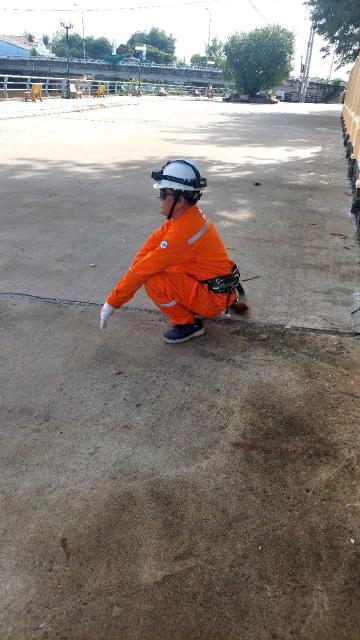gloves: (90, 293, 125, 332)
harness: (198, 266, 251, 299)
helmet: (142, 157, 211, 197)
shoes: (155, 309, 219, 353)
